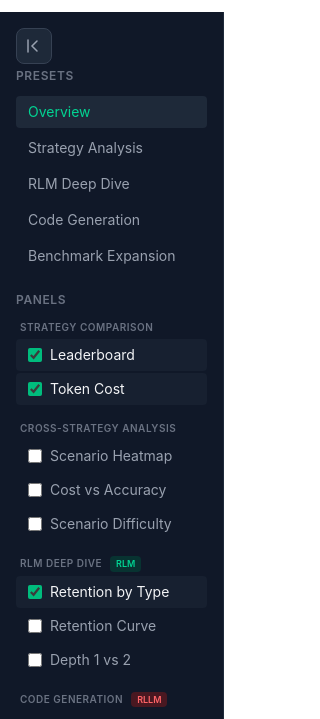
Test: Sidebar › enforces max 4 selected panels by disabling additional options
Click the checkbox labelled "Retention Curve" at [35, 626], box [28,618,42,632]
(page scrolled)
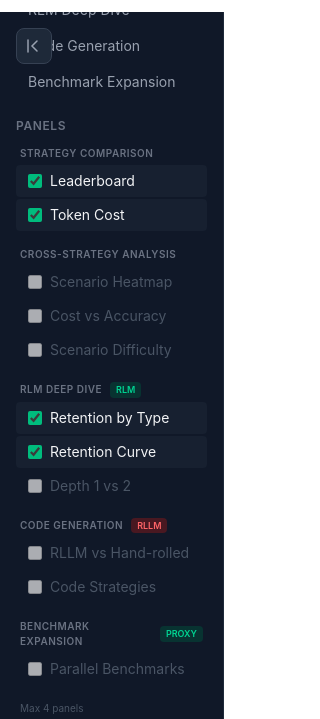
expect the checkbox labelled "Retention Curve" is checked: met, box [28,444,42,458]
expect the checkbox labelled "Depth 1 vs 2" is disabled: met, box [28,478,42,492]
expect the text "Max 4 panels" is shown: met, box [20,702,84,714]
